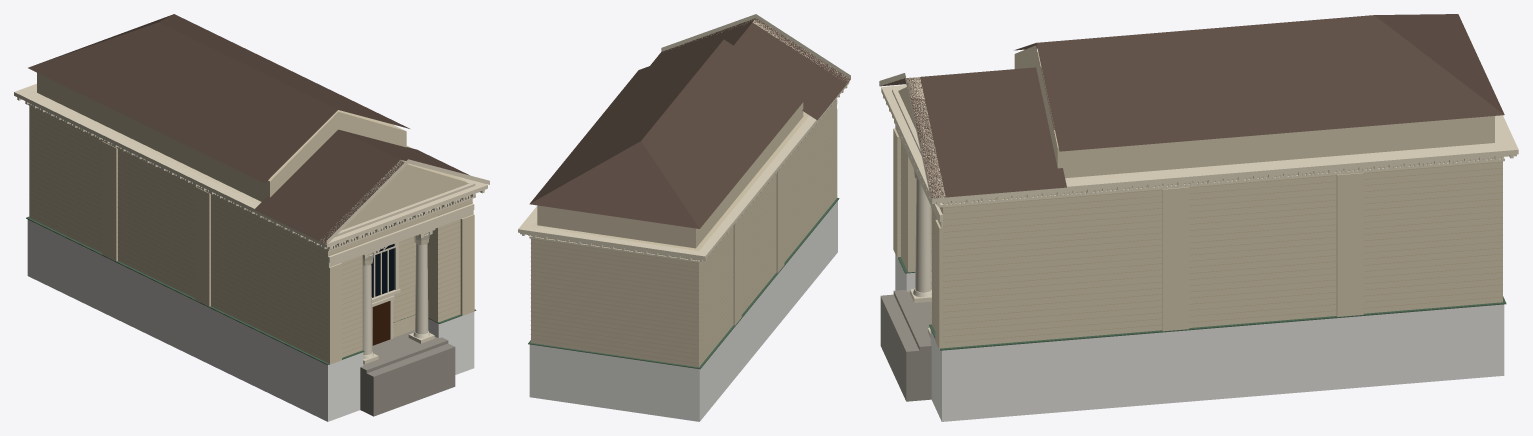
File: kenassa.glb
The picture shows the model from 3 angles, left to right: view 1: azimuth 30°, elevation 25°; view 2: azimuth 150°, elevation 25°; view 3: azimuth 270°, elevation 25°; orthographic projection. The views are drawn at different scales.
Parts seen in each view (by area): view 1: kenassa_wall, kenassa_roof, kenassa_wall3, kenassa_trim, kenassa_wall2, kenassa_stone, kenassa_trim_s, kenassa_metal, kenassa_glass, kenassa_wood; view 2: kenassa_wall, kenassa_roof, kenassa_wall3, kenassa_wall2, kenassa_trim, kenassa_metal; view 3: kenassa_wall, kenassa_roof, kenassa_wall3, kenassa_trim, kenassa_wall2, kenassa_stone, kenassa_trim_s, kenassa_metal.
Boxes of the visible parts, x1,y1,x2,y2 form: kenassa_wall: (29,72,474,364); kenassa_roof: (28,14,469,244); kenassa_wall3: (27,219,474,421); kenassa_trim: (14,83,489,364); kenassa_wall2: (29,106,472,358); kenassa_stone: (360,330,455,416); kenassa_trim_s: (362,232,429,358); kenassa_metal: (26,216,476,364); kenassa_glass: (371,244,394,297); kenassa_wood: (372,301,390,345); kenassa_wall: (531,99,837,367); kenassa_roof: (529,18,850,228); kenassa_wall3: (529,201,837,421); kenassa_wall2: (530,102,836,363); kenassa_trim: (518,14,850,262); kenassa_metal: (528,198,839,369); kenassa_wall: (893,45,1502,349); kenassa_roof: (880,14,1504,198); kenassa_wall3: (895,254,1504,421); kenassa_trim: (879,73,1518,337); kenassa_wall2: (900,141,1502,342); kenassa_stone: (880,290,931,401); kenassa_trim_s: (913,179,931,297); kenassa_metal: (898,257,1506,350).
Size of the model in its own units: 22.36 by 20.8 by 37.78.
